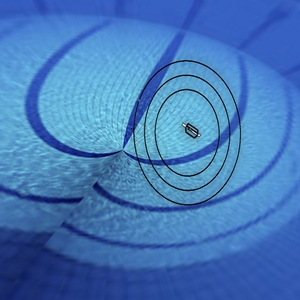circle: (125, 51, 249, 213)
submarine: (175, 118, 204, 148)
